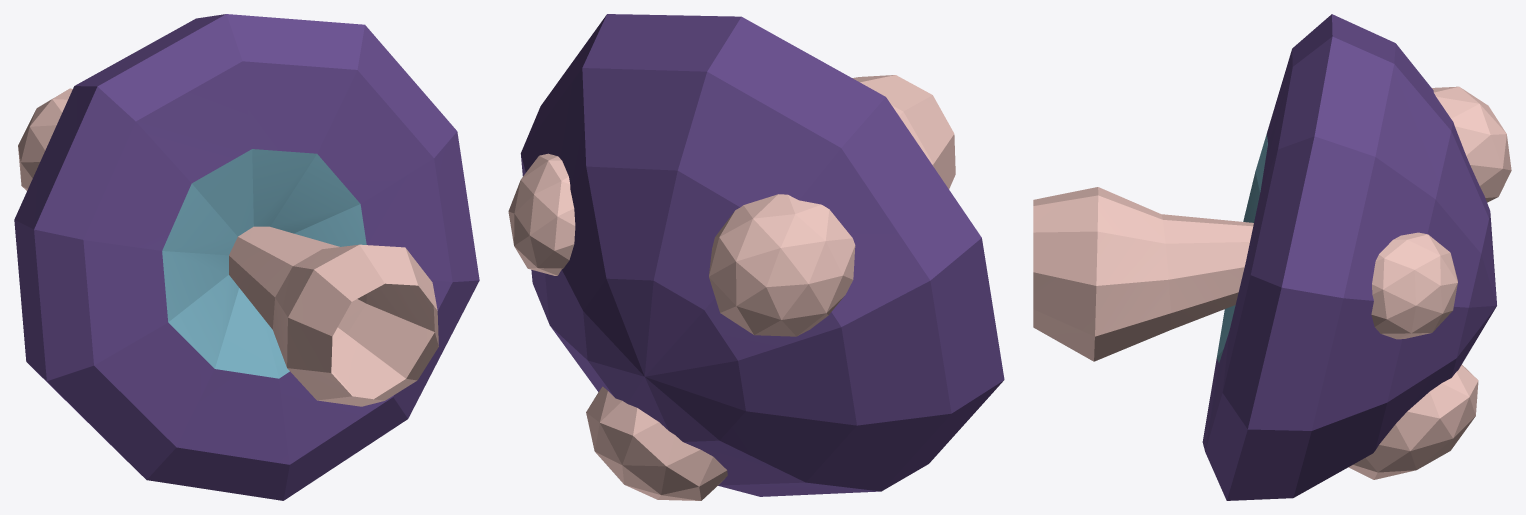
The model's file is MushroomBlue.fbx.
3 renders of one model, left to right at view 1: azimuth 30°, elevation 25°; view 2: azimuth 150°, elevation 25°; view 3: azimuth 270°, elevation 25°, orthographic. The views are drawn at different scales.
Visible parts, largest first — view 1: MushroomBlue; view 2: MushroomBlue; view 3: MushroomBlue.
Boxes of the visible parts, x1,y1,x2,y2 form: MushroomBlue: (14, 14, 479, 500); MushroomBlue: (508, 14, 1004, 500); MushroomBlue: (1033, 14, 1511, 500).
Bounding box in the file's own units: 42.21 × 41.44 × 43.15.
